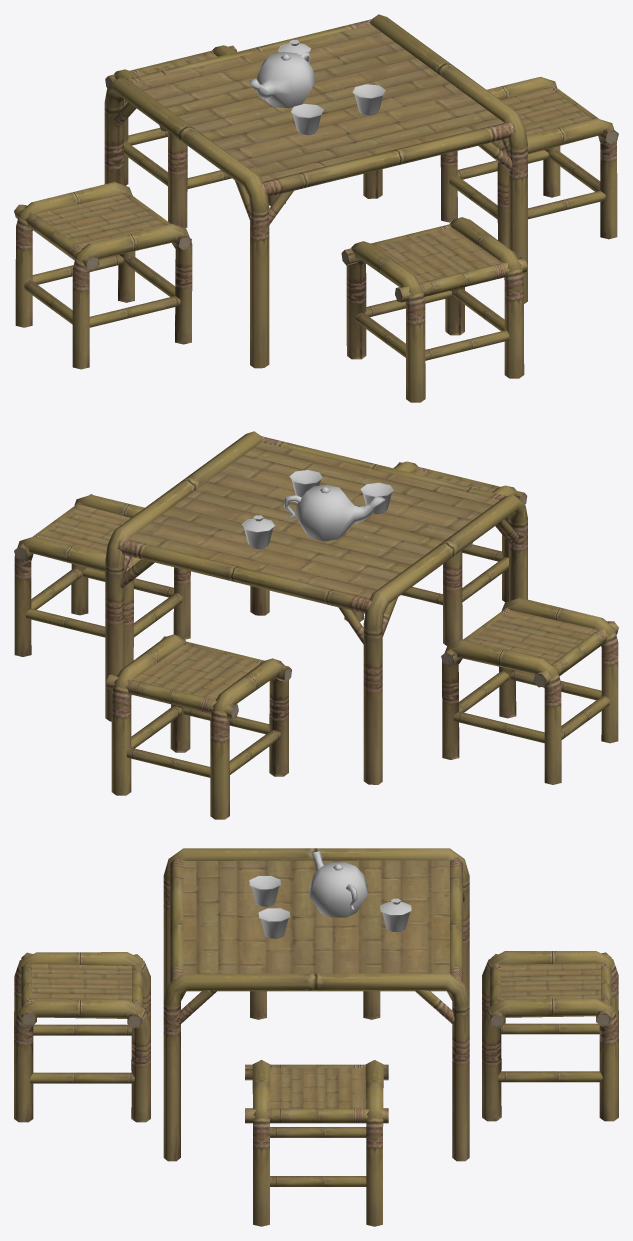
Rendered from Homeworld_Exterior_Ly_PairChair_Chair_02_Vo.fbx.
The picture shows the model from 3 angles, top to bottom: view 1: azimuth 30°, elevation 25°; view 2: azimuth 150°, elevation 25°; view 3: azimuth 270°, elevation 25°; orthographic projection.
Visible parts, largest first — view 1: Area_Ly_Prop_Common_Table_C_01_Vo, Area_Ly_Prop_Common_Chair_C_01_Vo, Area_Ly_Prop_Common_Chair_C_01_Vo (1), Area_Ly_Prop_Common_Chair_C_01_Vo (3), Area_Ly_Prop_Common_Chair_C_01_Vo (2), Area_Ly_Prop_Common_Teapot_01_Vo; view 2: Area_Ly_Prop_Common_Table_C_01_Vo, Area_Ly_Prop_Common_Chair_C_01_Vo (2), Area_Ly_Prop_Common_Chair_C_01_Vo (1), Area_Ly_Prop_Common_Chair_C_01_Vo (3), Area_Ly_Prop_Common_Teapot_01_Vo, Area_Ly_Prop_Common_Chair_C_01_Vo; view 3: Area_Ly_Prop_Common_Table_C_01_Vo, Area_Ly_Prop_Common_Chair_C_01_Vo, Area_Ly_Prop_Common_Chair_C_01_Vo (2), Area_Ly_Prop_Common_Chair_C_01_Vo (3), Area_Ly_Prop_Common_Teapot_01_Vo, Area_Ly_Prop_Common_Chair_C_01_Vo (1).
Part boxes in pixels (x1,y1,x2,y2): Area_Ly_Prop_Common_Table_C_01_Vo: (104,14,527,368); Area_Ly_Prop_Common_Chair_C_01_Vo: (341,217,527,402); Area_Ly_Prop_Common_Chair_C_01_Vo (1): (14,182,192,369); Area_Ly_Prop_Common_Chair_C_01_Vo (3): (440,77,618,247); Area_Ly_Prop_Common_Chair_C_01_Vo (2): (105,45,285,228); Area_Ly_Prop_Common_Teapot_01_Vo: (249,40,385,135); Area_Ly_Prop_Common_Table_C_01_Vo: (105,431,527,784); Area_Ly_Prop_Common_Chair_C_01_Vo (2): (106,634,291,819); Area_Ly_Prop_Common_Chair_C_01_Vo (1): (441,597,618,784); Area_Ly_Prop_Common_Chair_C_01_Vo (3): (14,494,190,666); Area_Ly_Prop_Common_Teapot_01_Vo: (242,470,393,548); Area_Ly_Prop_Common_Chair_C_01_Vo: (344,461,527,645); Area_Ly_Prop_Common_Table_C_01_Vo: (163,848,469,1161); Area_Ly_Prop_Common_Chair_C_01_Vo: (14,952,150,1122); Area_Ly_Prop_Common_Chair_C_01_Vo (2): (482,951,618,1121); Area_Ly_Prop_Common_Chair_C_01_Vo (3): (245,1060,388,1226); Area_Ly_Prop_Common_Teapot_01_Vo: (249,850,411,938); Area_Ly_Prop_Common_Chair_C_01_Vo (1): (250,991,380,1019).
Size of the model in its own units: 2.51 by 0.9757 by 2.42.
